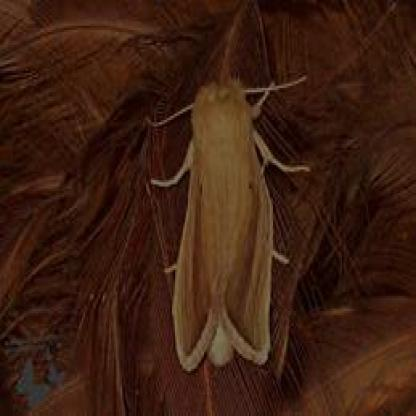stem-borer: (167, 72, 277, 382)
